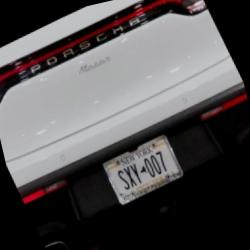LicensePlate: (100, 132, 184, 205)
